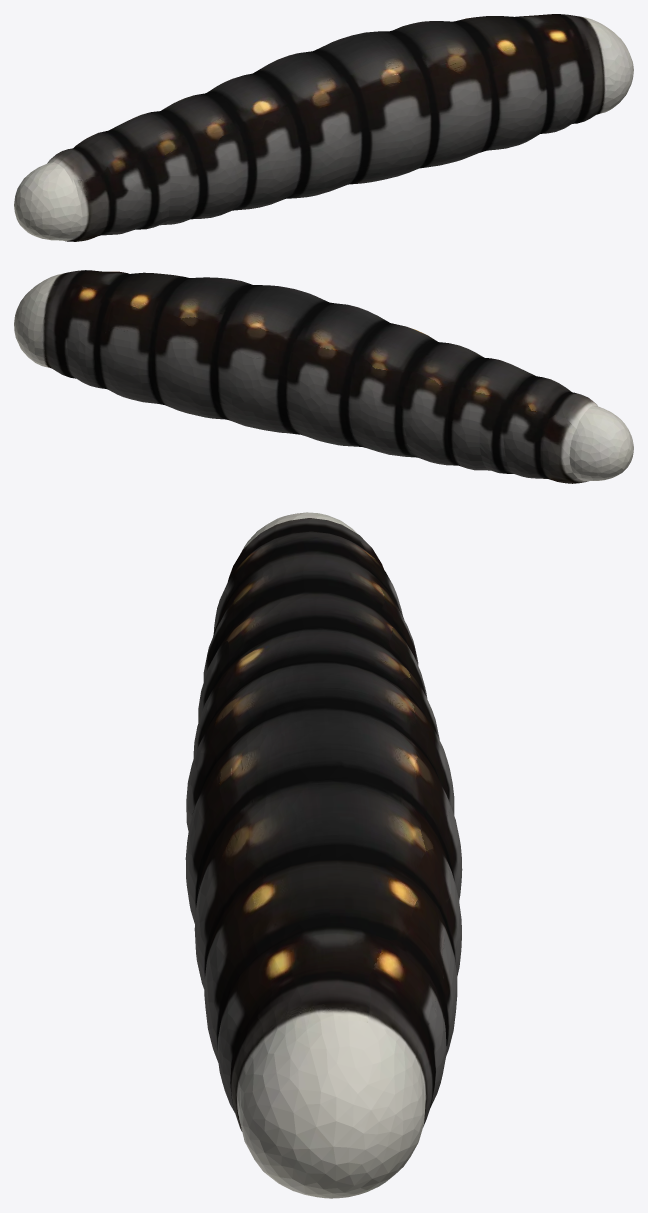
File: carrier.glb
The picture shows the model from 3 angles, top to bottom: view 1: azimuth 30°, elevation 25°; view 2: azimuth 150°, elevation 25°; view 3: azimuth 270°, elevation 25°; orthographic projection. The views are drawn at different scales.
Visible parts, largest first — view 1: figure; view 2: figure; view 3: figure.
Part boxes in pixels (x1,y1,x2,y2): figure: [14, 14, 633, 241]; figure: [14, 270, 633, 483]; figure: [185, 512, 462, 1198].
Size of the model in its own units: 4.85 by 1 by 0.9627.
Materials: 1 (1 with a texture image).
